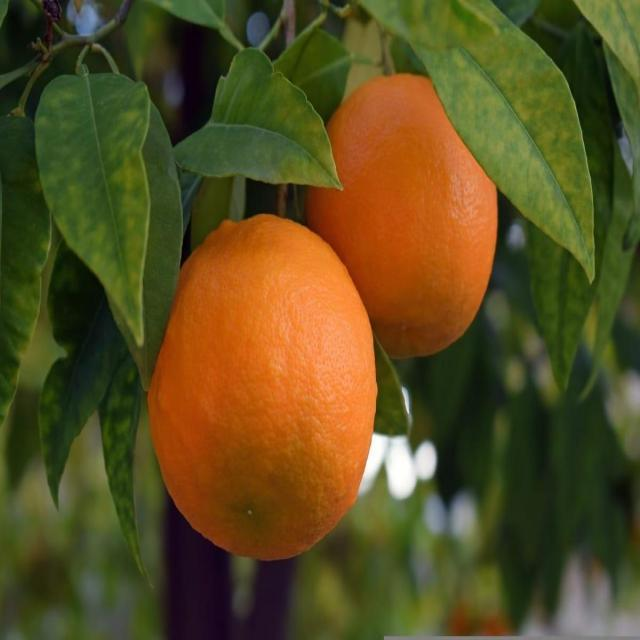Jeruk Sudah Matang: (132, 189, 396, 586), (290, 47, 521, 376)
